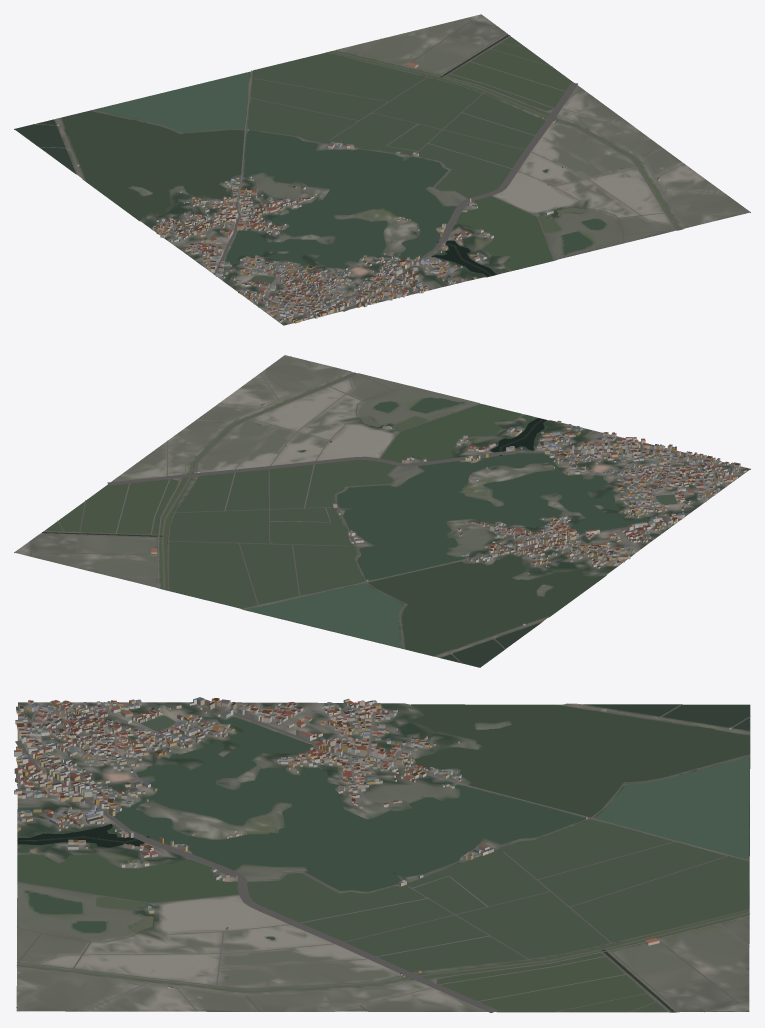
The picture shows the model from 3 angles, top to bottom: view 1: azimuth 30°, elevation 25°; view 2: azimuth 150°, elevation 25°; view 3: azimuth 270°, elevation 25°; orthographic projection. The views are drawn at different scales.
Visible parts, largest first — view 1: water, ground, buildings, roads; view 2: water, ground, buildings, roads; view 3: water, ground, buildings, roads.
Part boxes in pixels (x1,y1,x2,y2): water: (15,34,680,284); ground: (14,14,750,325); buildings: (56,62,660,323); roads: (33,18,747,323); water: (42,372,676,667); ground: (14,355,750,667); buildings: (151,403,746,653); roads: (25,356,742,662); water: (16,704,749,1012); ground: (16,702,750,1012); buildings: (14,697,731,989); roads: (15,702,750,1012).
Bounding box in the file's own units: 1410 × 22.61 × 1410.
